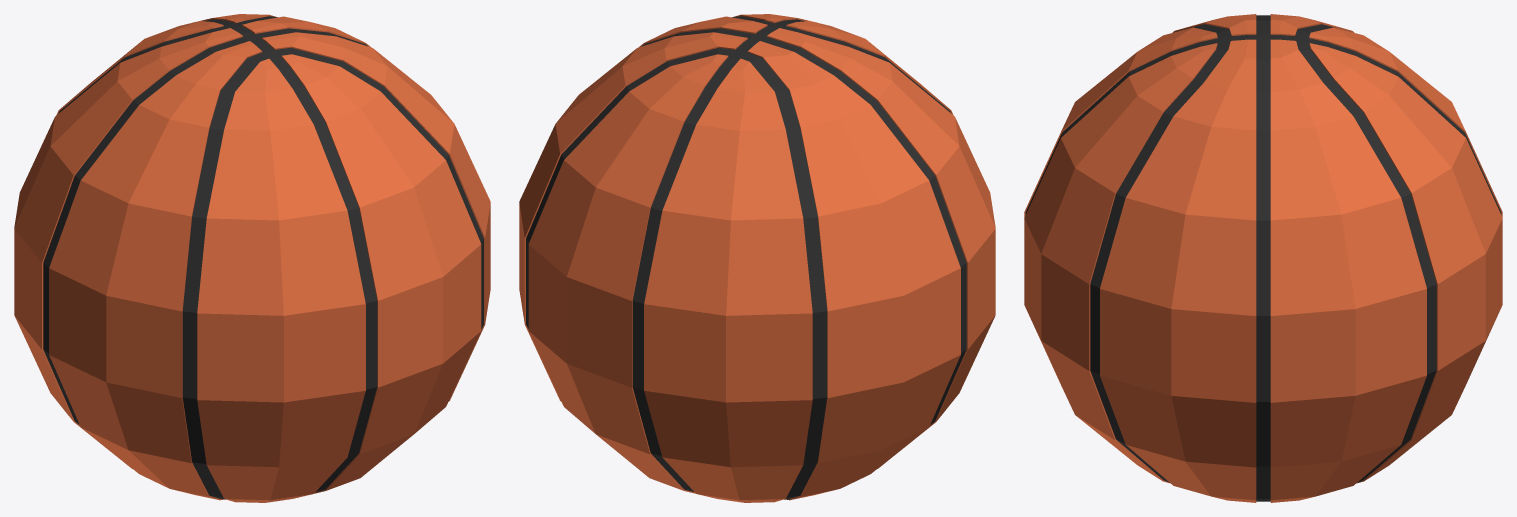
The model's file is basketball.fbx.
The picture shows the model from 3 angles, left to right: view 1: azimuth 30°, elevation 25°; view 2: azimuth 150°, elevation 25°; view 3: azimuth 270°, elevation 25°; orthographic projection.
Parts seen in each view (by area): view 1: BasketballBall; view 2: BasketballBall; view 3: BasketballBall.
Boxes of the visible parts, bbox=[...] form: BasketballBall: bbox=[14, 14, 490, 502]; BasketballBall: bbox=[519, 14, 995, 502]; BasketballBall: bbox=[1024, 14, 1502, 502].
Bounding box in the file's own units: 73.54 × 75.27 × 73.54.
